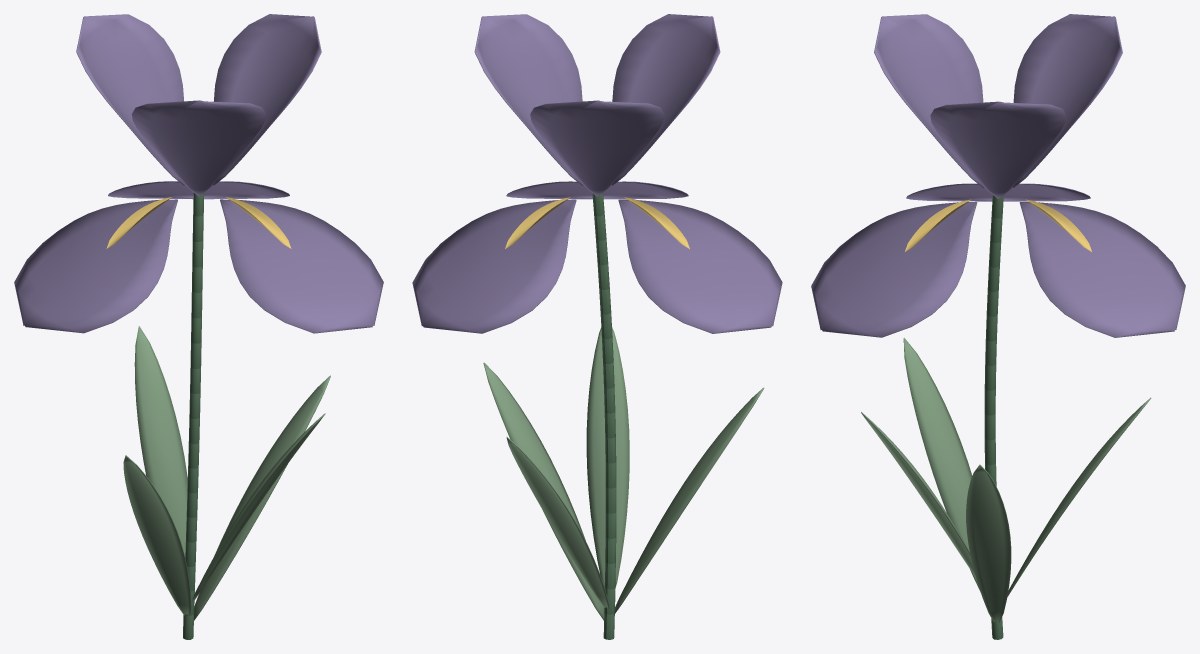
Rendered from iris-fine-v2.glb.
3 views of the same model, side by side, from view 1: azimuth 30°, elevation 25°; view 2: azimuth 150°, elevation 25°; view 3: azimuth 270°, elevation 25° (orthographic).
Parts seen in each view (by area): view 1: iris-fine-v2-petal, iris-fine-v2-leaf, iris-fine-v2-stem, iris-fine-v2-center; view 2: iris-fine-v2-petal, iris-fine-v2-leaf, iris-fine-v2-stem, iris-fine-v2-center; view 3: iris-fine-v2-petal, iris-fine-v2-leaf, iris-fine-v2-stem, iris-fine-v2-center.
Boxes of the visible parts, bbox=[...] form: iris-fine-v2-petal: bbox=[14, 14, 383, 333]; iris-fine-v2-leaf: bbox=[123, 326, 330, 620]; iris-fine-v2-stem: bbox=[183, 193, 204, 639]; iris-fine-v2-center: bbox=[106, 197, 291, 248]; iris-fine-v2-petal: bbox=[412, 14, 782, 333]; iris-fine-v2-leaf: bbox=[483, 327, 764, 620]; iris-fine-v2-stem: bbox=[592, 193, 616, 639]; iris-fine-v2-center: bbox=[505, 197, 689, 248]; iris-fine-v2-petal: bbox=[811, 14, 1185, 337]; iris-fine-v2-leaf: bbox=[861, 338, 1151, 622]; iris-fine-v2-stem: bbox=[984, 195, 1003, 639]; iris-fine-v2-center: bbox=[905, 199, 1091, 251].
Size of the model in its own units: 1.15 by 2.14 by 1.21.
